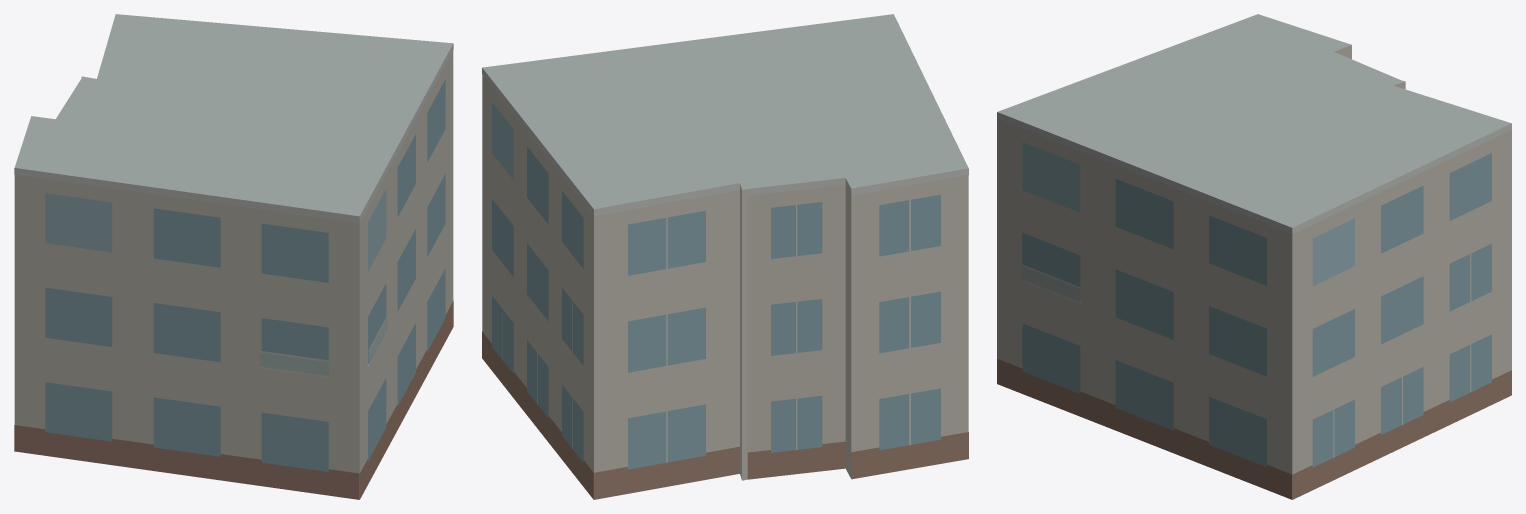
File: survey-upis-32625309.glb
3 views of the same model, side by side, from view 1: azimuth 30°, elevation 25°; view 2: azimuth 150°, elevation 25°; view 3: azimuth 270°, elevation 25° (orthographic). The views are drawn at different scales.
Parts seen in each view (by area): view 1: survey-upis-32625309.tmp; view 2: survey-upis-32625309.tmp; view 3: survey-upis-32625309.tmp.
Part boxes in pixels (x1,y1,x2,y2): survey-upis-32625309.tmp: (14, 14, 453, 499); survey-upis-32625309.tmp: (482, 14, 968, 499); survey-upis-32625309.tmp: (997, 14, 1511, 499).
Bounding box in the file's own units: 17.04 × 10.1 × 17.33.
